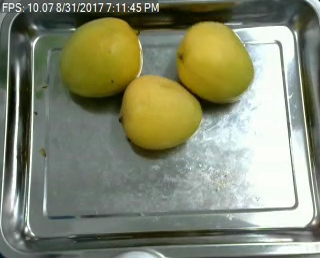Mango: (59, 15, 144, 98), (120, 74, 207, 153), (176, 22, 257, 102)
